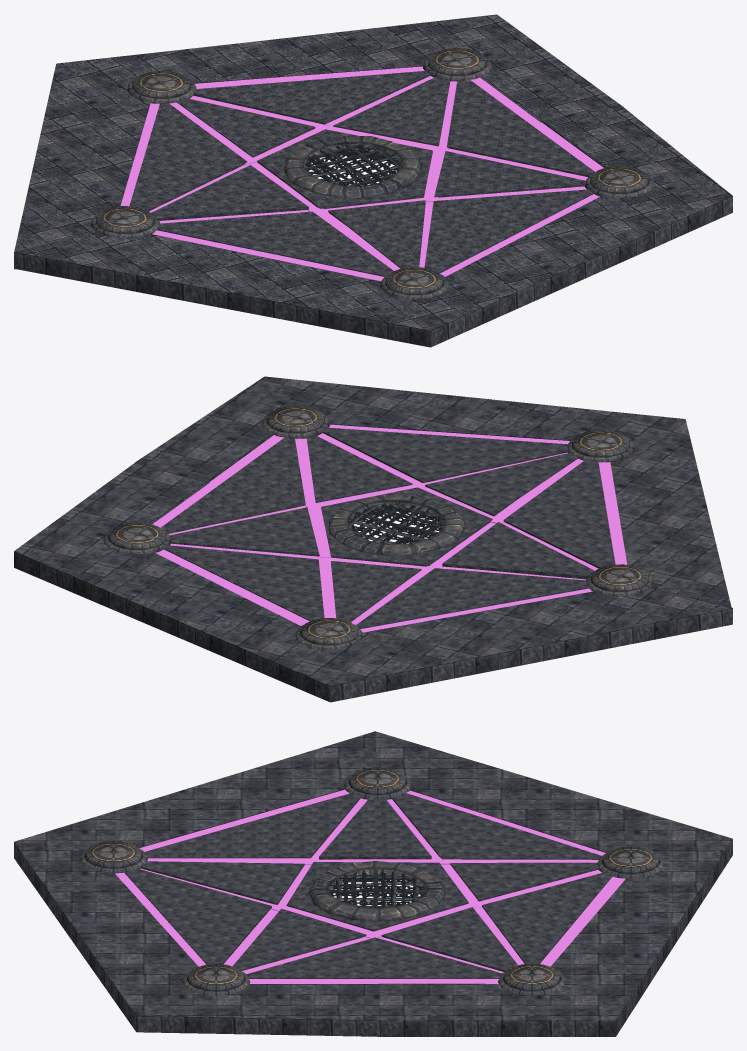
Rendered from PlatformStar (2).gltf.
The picture shows the model from 3 angles, top to bottom: view 1: azimuth 30°, elevation 25°; view 2: azimuth 150°, elevation 25°; view 3: azimuth 270°, elevation 25°; orthographic projection. The views are drawn at different scales.
Visible parts, largest first — view 1: Floor (×13), Spectral/Void (×11), P_PROP_platform_grid_dungeon, P_PROP_platform_dungeon (1), P_PROP_platform_dungeon (2), P_PROP_platform_dungeon, P_PROP_platform_dungeon (4), P_PROP_platform_dungeon (3); view 2: Floor (×13), Spectral/Void (×12), P_PROP_platform_grid_dungeon, P_PROP_platform_dungeon (1), P_PROP_platform_dungeon, P_PROP_platform_dungeon (3), P_PROP_platform_dungeon (2), P_PROP_platform_dungeon (4); view 3: Floor (×13), Spectral/Void (×14), P_PROP_platform_grid_dungeon, P_PROP_platform_dungeon (2), P_PROP_platform_dungeon (1), P_PROP_platform_dungeon (4), P_PROP_platform_dungeon, P_PROP_platform_dungeon (3).
Part boxes in pixels (<box>): Floor (×13): <box>14,14,732,347</box>; Spectral/Void (×11): <box>120,66,603,281</box>; P_PROP_platform_grid_dungeon: <box>284,136,422,197</box>; P_PROP_platform_dungeon (1): <box>423,48,491,81</box>; P_PROP_platform_dungeon (2): <box>127,70,196,103</box>; P_PROP_platform_dungeon: <box>584,166,653,198</box>; P_PROP_platform_dungeon (4): <box>380,267,448,299</box>; P_PROP_platform_dungeon (3): <box>91,206,160,238</box>; Floor (×13): <box>14,376,732,702</box>; Spectral/Void (×12): <box>152,424,627,632</box>; P_PROP_platform_grid_dungeon: <box>329,494,464,555</box>; P_PROP_platform_dungeon (1): <box>103,522,171,554</box>; P_PROP_platform_dungeon: <box>262,406,329,438</box>; P_PROP_platform_dungeon (3): <box>586,564,653,596</box>; P_PROP_platform_dungeon (2): <box>295,618,362,649</box>; P_PROP_platform_dungeon (4): <box>567,430,634,462</box>; Floor (×13): <box>14,731,732,1036</box>; Spectral/Void (×14): <box>115,789,625,983</box>; P_PROP_platform_grid_dungeon: <box>308,860,445,921</box>; P_PROP_platform_dungeon (2): <box>597,846,664,878</box>; P_PROP_platform_dungeon (1): <box>498,963,565,995</box>; P_PROP_platform_dungeon (4): <box>80,841,147,873</box>; P_PROP_platform_dungeon: <box>182,964,250,995</box>; P_PROP_platform_dungeon (3): <box>344,767,411,799</box>.
Size of the model in its own units: 28.06 by 1.04 by 29.45.
4 materials, 3 textured.
